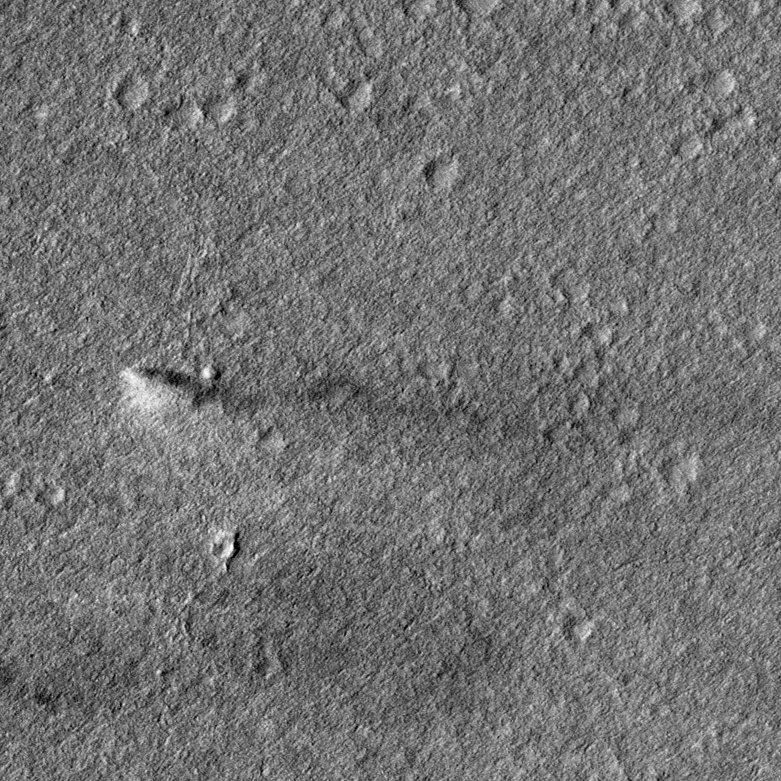dust_devil: (118, 362, 365, 417)
